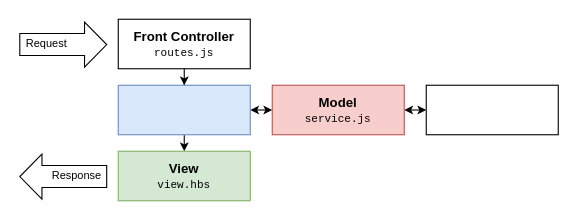
This 578x220 diagram has some shape labels left out. Here are the shapes that lost their labels. From the top down, the centre of each, then its label:
point (183, 109): Controller controller.js
point (491, 109): Data Source data-store.js
